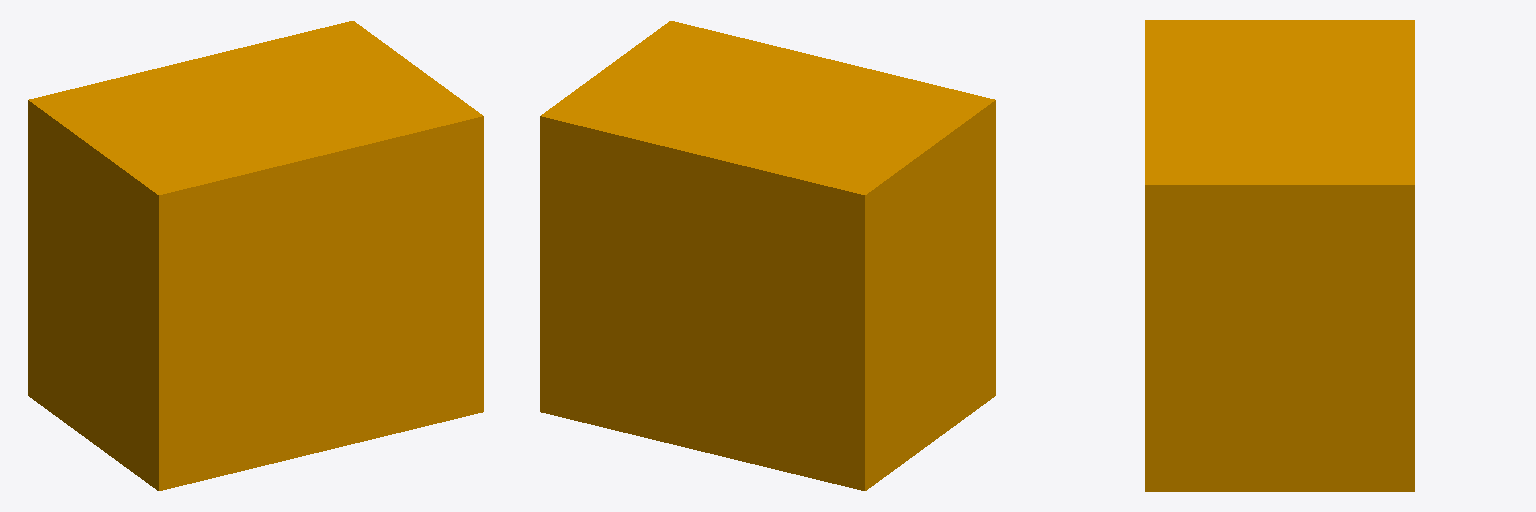
URDF robot description (object):
<robot name="object">
  <link name="object">
    <visual>
      <origin xyz="0 0 0" />
      <geometry>
        <box size="0.09200000000000003 0.064 0.08" />
      </geometry>
    </visual>

    <collision>
      <origin xyz="0 0 0" />
      <geometry>
        <box size="0.09200000000000003 0.064 0.08" />
      </geometry>
    </collision>

    <inertial>
      <mass value="0.05" />
      <inertia ixx="0.0001" ixy="0.0" ixz="0.0" iyy="0.0001" iyz="0.0" izz="0.0001" />
    </inertial>
  </link>
</robot>

--- Render facts (derived) ---
The picture shows the robot from 3 angles, left to right: view 1: azimuth 30°, elevation 25°; view 2: azimuth 150°, elevation 25°; view 3: azimuth 270°, elevation 25°; orthographic projection.
Model object with 1 links and 0 joints (none), rooted at object, posed all joints at 0.
Visible links, largest first — view 1: object; view 2: object; view 3: object.
Link boxes in pixels (left/top/right/bottom): object: left=28, top=21, right=483, bottom=490; object: left=540, top=21, right=995, bottom=490; object: left=1145, top=20, right=1414, bottom=491.
Bounding box of the posed robot: 0.092 × 0.064 × 0.08 m (x, y, z).
Geometry: primitives only (box / cylinder / sphere), no mesh files.